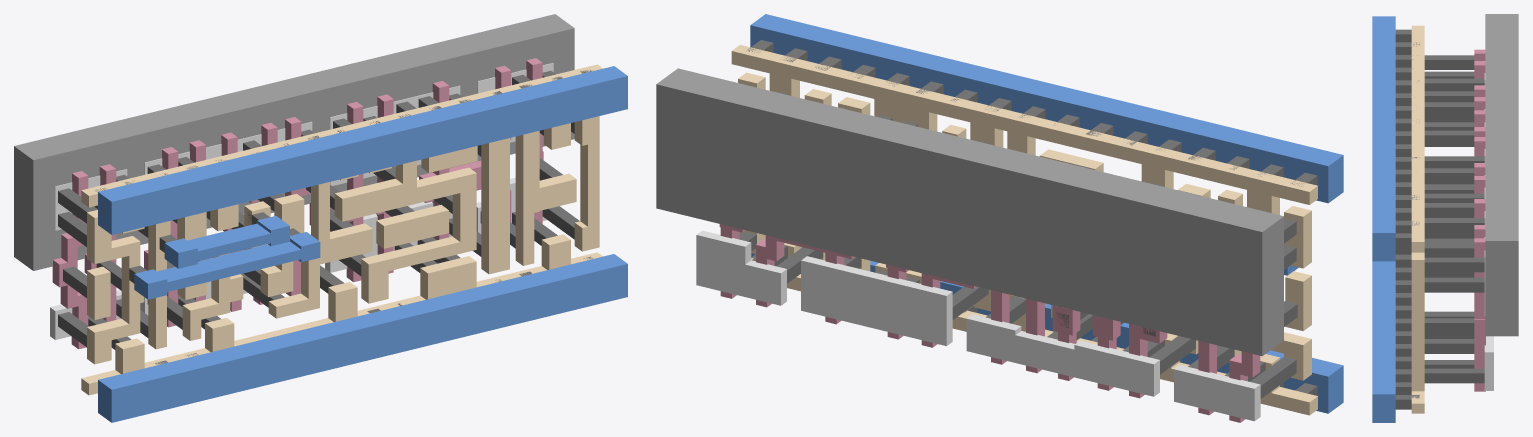
File: sky130_fd_sc_hd__dlrbn_1.gds.gltf
3 views of the same model, side by side, from view 1: azimuth 30°, elevation 25°; view 2: azimuth 150°, elevation 25°; view 3: azimuth 270°, elevation 25° (orthographic). The views are drawn at different scales.
Visible parts, largest first — view 1: sky130_fd_sc_hd__dlrbn_1_met1, sky130_fd_sc_hd__dlrbn_1_li1, sky130_fd_sc_hd__dlrbn_1_nwell, sky130_fd_sc_hd__dlrbn_1_licon, sky130_fd_sc_hd__dlrbn_1_poly, sky130_fd_sc_hd__dlrbn_1_diff, sky130_fd_sc_hd__dlrbn_1_mcon; view 2: sky130_fd_sc_hd__dlrbn_1_nwell, sky130_fd_sc_hd__dlrbn_1_li1, sky130_fd_sc_hd__dlrbn_1_diff, sky130_fd_sc_hd__dlrbn_1_met1, sky130_fd_sc_hd__dlrbn_1_poly, sky130_fd_sc_hd__dlrbn_1_licon, sky130_fd_sc_hd__dlrbn_1_mcon; view 3: sky130_fd_sc_hd__dlrbn_1_licon, sky130_fd_sc_hd__dlrbn_1_nwell, sky130_fd_sc_hd__dlrbn_1_met1, sky130_fd_sc_hd__dlrbn_1_mcon, sky130_fd_sc_hd__dlrbn_1_li1, sky130_fd_sc_hd__dlrbn_1_poly, sky130_fd_sc_hd__dlrbn_1_diff.
Part boxes in pixels (x1,y1,x2,y2): sky130_fd_sc_hd__dlrbn_1_met1: [98, 66, 627, 422]; sky130_fd_sc_hd__dlrbn_1_li1: [81, 64, 602, 395]; sky130_fd_sc_hd__dlrbn_1_nwell: [14, 14, 574, 270]; sky130_fd_sc_hd__dlrbn_1_licon: [58, 70, 579, 349]; sky130_fd_sc_hd__dlrbn_1_poly: [52, 58, 543, 349]; sky130_fd_sc_hd__dlrbn_1_diff: [50, 63, 553, 339]; sky130_fd_sc_hd__dlrbn_1_mcon: [95, 70, 592, 364]; sky130_fd_sc_hd__dlrbn_1_nwell: [656, 68, 1283, 356]; sky130_fd_sc_hd__dlrbn_1_li1: [731, 44, 1317, 415]; sky130_fd_sc_hd__dlrbn_1_diff: [696, 230, 1260, 421]; sky130_fd_sc_hd__dlrbn_1_met1: [750, 14, 1343, 413]; sky130_fd_sc_hd__dlrbn_1_poly: [719, 224, 1260, 422]; sky130_fd_sc_hd__dlrbn_1_licon: [739, 91, 1297, 398]; sky130_fd_sc_hd__dlrbn_1_mcon: [746, 40, 1317, 395]; sky130_fd_sc_hd__dlrbn_1_licon: [1424, 55, 1484, 383]; sky130_fd_sc_hd__dlrbn_1_nwell: [1485, 14, 1518, 336]; sky130_fd_sc_hd__dlrbn_1_met1: [1372, 16, 1395, 422]; sky130_fd_sc_hd__dlrbn_1_mcon: [1395, 29, 1419, 409]; sky130_fd_sc_hd__dlrbn_1_li1: [1411, 25, 1424, 413]; sky130_fd_sc_hd__dlrbn_1_poly: [1474, 49, 1485, 391]; sky130_fd_sc_hd__dlrbn_1_diff: [1484, 73, 1493, 390].
Size of the model in its own units: 8.2 by 3.2 by 2.24.
